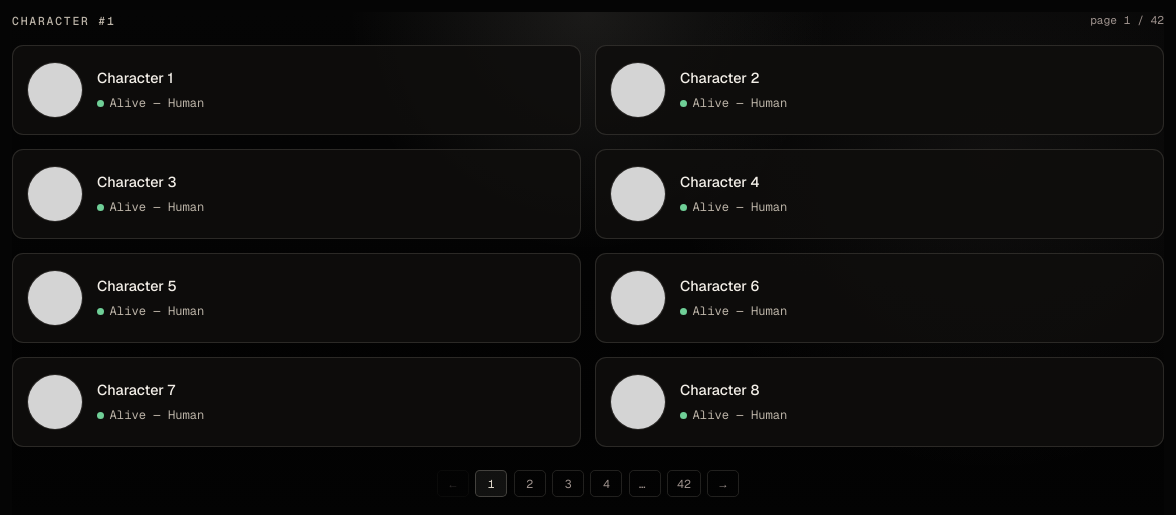
Test: CharacterPanel › navigates to next page
Expected: the text "Character 1" is shown, 97,69 -> 173,87
Click the button "→" at (723, 483), box 707,470 -> 739,497
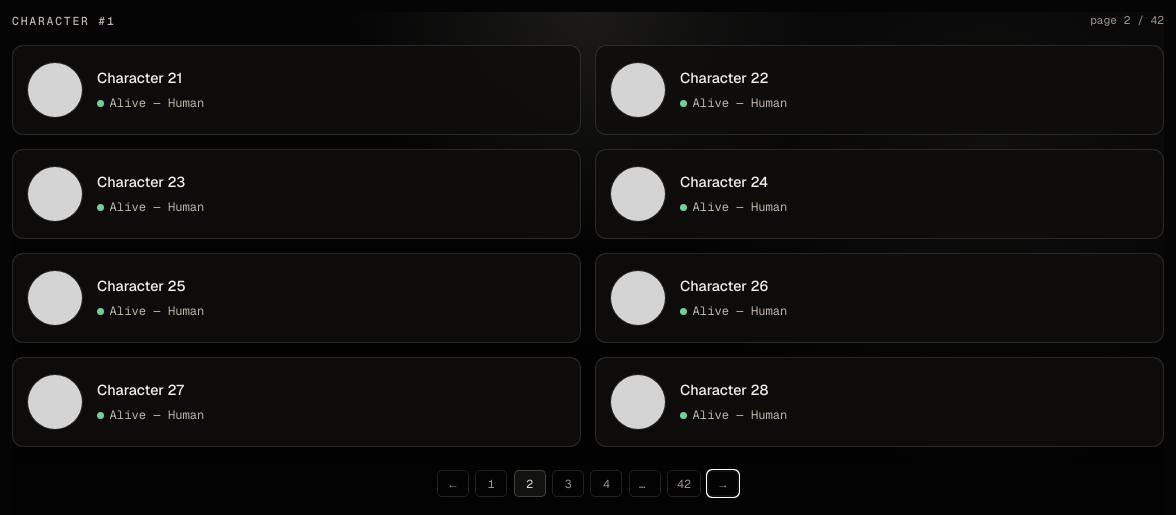
Result: the text "Character 21" is shown at 97,69 -> 182,87
